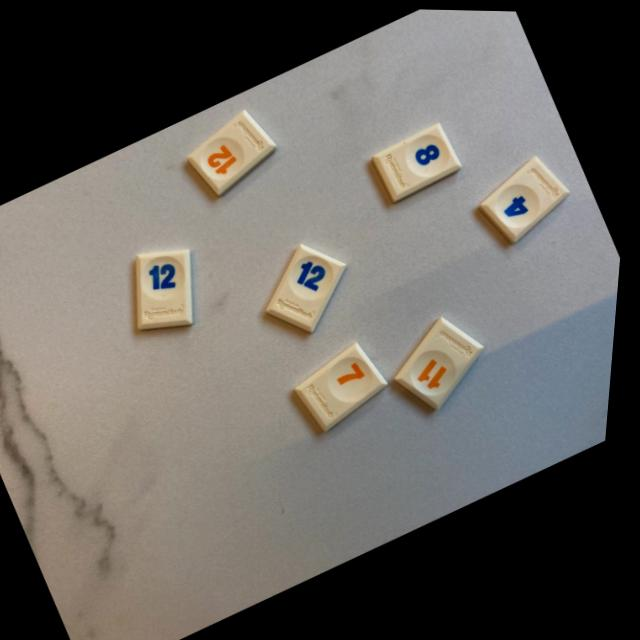blue_12: (272, 244, 350, 330), (142, 249, 197, 329)
blue_4: (483, 154, 572, 240)
blue_8: (375, 121, 465, 200)
orange_11: (402, 315, 489, 407)
orange_12: (191, 109, 279, 195)
orange_7: (303, 340, 394, 430)
